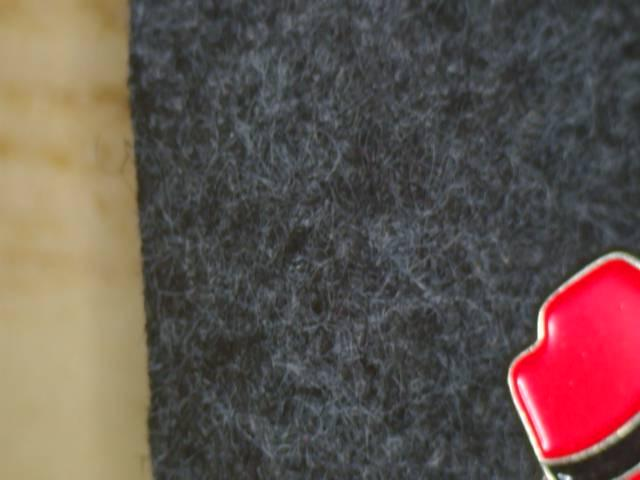Red-Hat: (480, 220, 640, 480)
